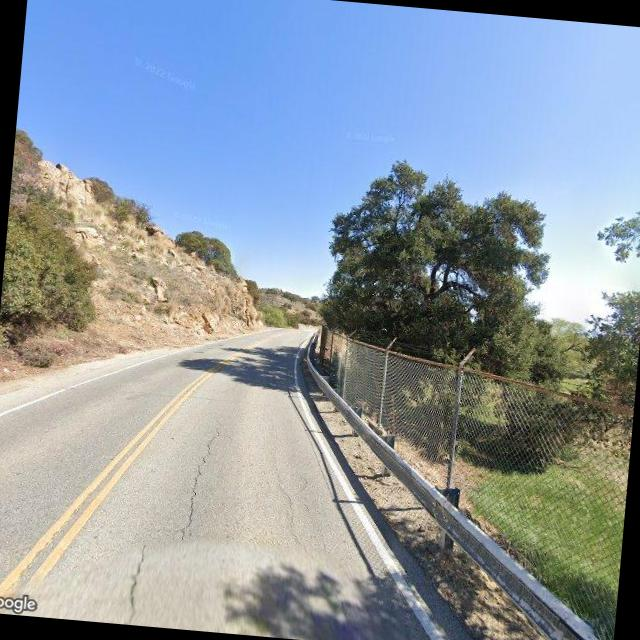crack: (182, 407, 219, 537), (122, 536, 151, 625)
